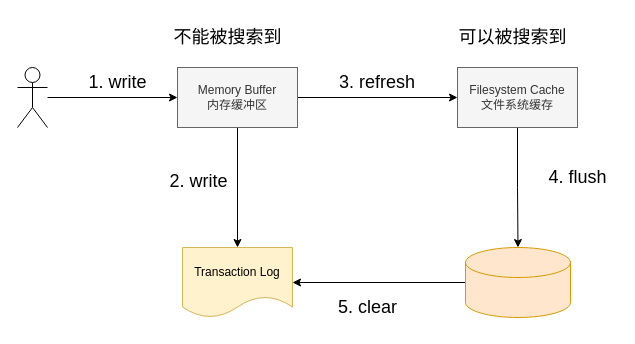
Image size: 635x344. Some labels were removed from this diagram. The shapes that lost their labels are listed below. From the top down, each one's centre as x and y in pixels, then its label:
the point at 32,97: Actor
the point at 517,282: 磁盘
